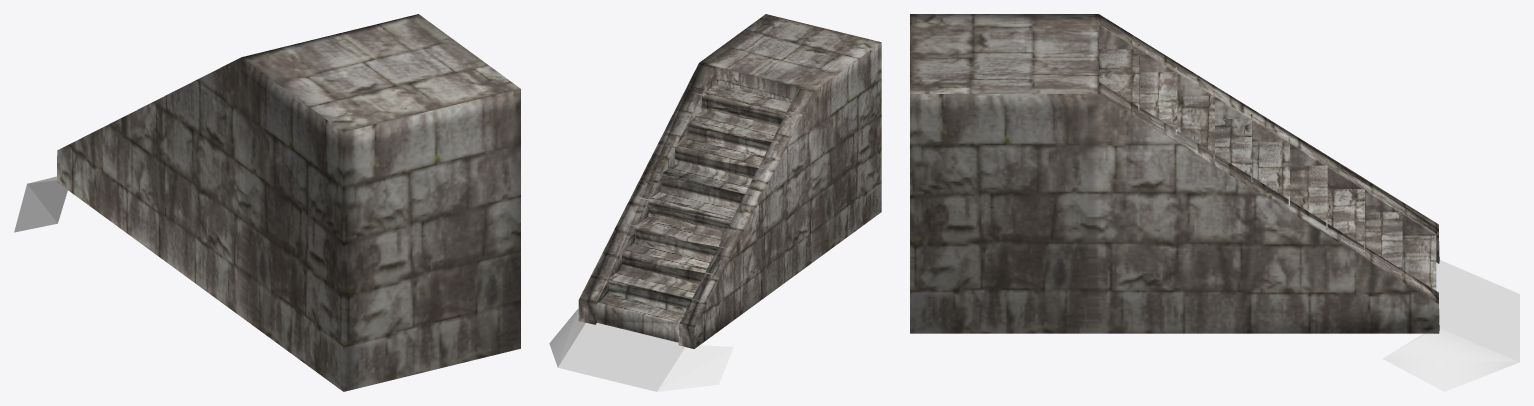
Rendered from staircase_1.glb.
The picture shows the model from 3 angles, left to right: view 1: azimuth 30°, elevation 25°; view 2: azimuth 150°, elevation 25°; view 3: azimuth 270°, elevation 25°; orthographic projection. The views are drawn at different scales.
Parts seen in each view (by area): view 1: staircase_1; view 2: staircase_1; view 3: staircase_1.
Part boxes in pixels (box(x1,y1,x2,y2)): staircase_1: box(14, 14, 520, 391); staircase_1: box(549, 14, 881, 391); staircase_1: box(910, 14, 1519, 391).
Size of the model in its own units: 4.18 by 4.66 by 9.21.
2 materials, 1 textured.
